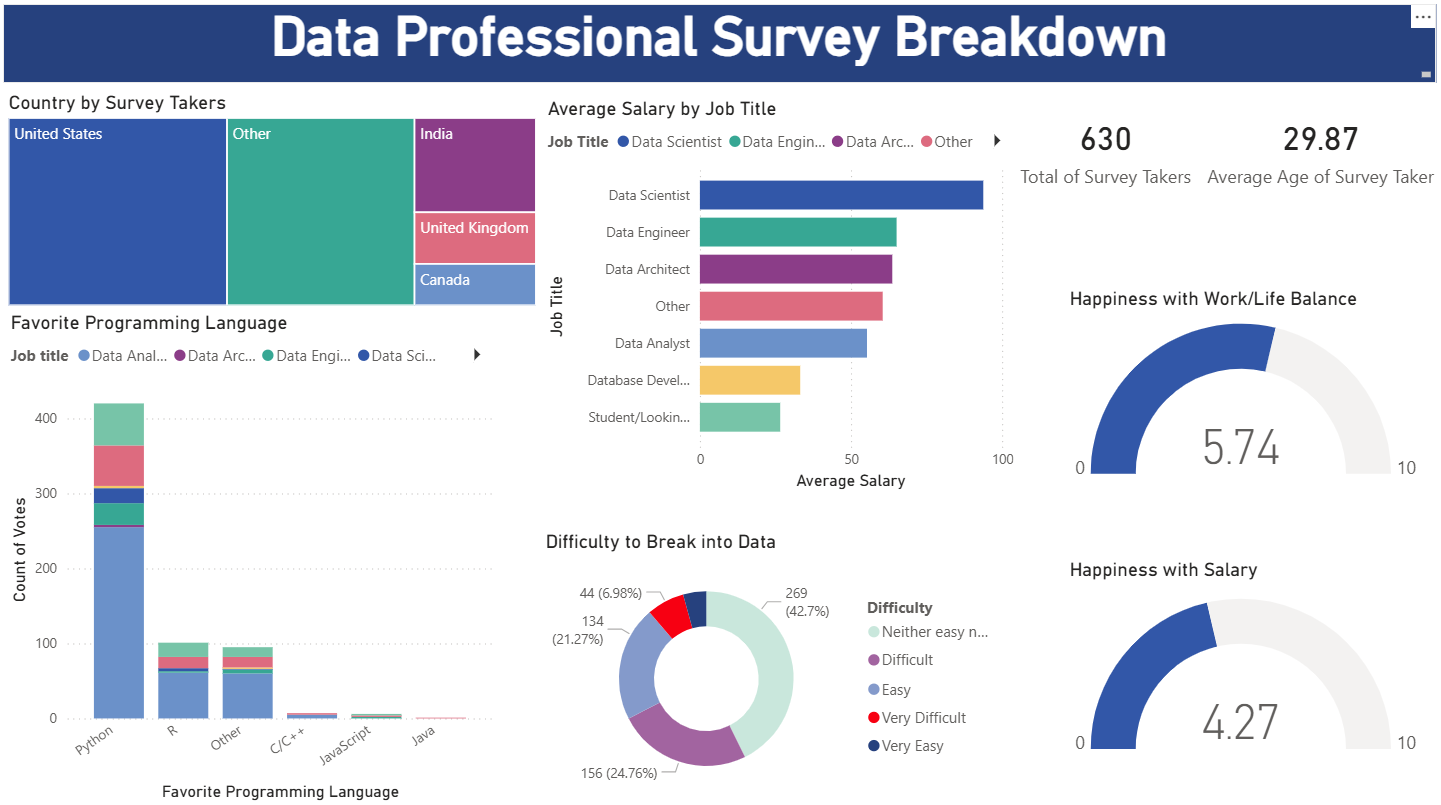

What the dashboard file says about the page in this screenshot:
{"tool":"powerbi","page":{"name":"Page 1","canvas":[1280,720],"ordinal":0},"visuals":[{"type":"textbox","title":"Data Professional Survey Breakdown","box":[4.4,8.9,1270.6,70],"z":0},{"type":"card","fields":{"Values":["CountNonNull(Data Professional Survey.Unique ID)"]},"box":[898.2,79.4,167.9,114.6],"z":1},{"type":"card","fields":{"Values":["Avg(Data Professional Survey.Q10 - Current Age)"]},"box":[1066.1,79.4,213.9,114.6],"z":2},{"type":"barChart","title":"Average Salary by Job Title","fields":{"Category":["Data Professional Survey.Q1 - Which Title Best Fits your Current Role?.1"],"Y":["Avg(Data Professional Survey.Average Salary)"],"Series":["Data Professional Survey.Q1 - Which Title Best Fits your Current Role?.1"]},"box":[482.4,91.3,423,352.9],"z":3},{"type":"columnChart","title":"Favorite Programming Language","fields":{"Category":["Data Professional Survey.Q5 - Favorite Programming Language.1"],"Y":["CountNonNull(Data Professional Survey.Unique ID)"],"Series":["Data Professional Survey.Q1 - Which Title Best Fits your Current Role?.1"]},"box":[6.3,280.7,437.8,439.6],"z":4},{"type":"treemap","title":"Country by Survey Takers","fields":{"Group":["Data Professional Survey.Q11 - Which Country do you live in?.1"],"Values":["CountNonNull(Data Professional Survey.Q11 - Which Country do you live in?.1)"]},"box":[4.5,85.8,477.5,195],"z":5},{"type":"gauge","title":"Happiness with Work/Life Balance","fields":{"Y":["Avg(Data Professional Survey.Q6 - How Happy are you in your Current Position with the following? (Work/Life Balance))"],"MaxValue":["Max(Data Professional Survey.Q6 - How Happy are you in your Current Position with the following? (Work/Life Balance))1"],"MinValue":["Min(Data Professional Survey.Q6 - How Happy are you in your Current Position with the following? (Work/Life Balance))"]},"box":[945.1,260,322.3,184.1],"z":6},{"type":"gauge","title":"Happiness with Salary","fields":{"Y":["Avg(Data Professional Survey.Q6 - How Happy are you in your Current Position with the following? (Salary))"],"MinValue":["Min(Data Professional Survey.Q6 - How Happy are you in your Current Position with the following? (Salary))"],"MaxValue":["Max(Data Professional Survey.Q6 - How Happy are you in your Current Position with the following? (Salary))"]},"box":[945.1,500.1,322.3,191.4],"z":7},{"type":"donutChart","title":"Difficulty to Break into Data","fields":{"Category":["Data Professional Survey.Q7 - How difficult was it for you to break into Data?"],"Y":["CountNonNull(Data Professional Survey.Q7 - How difficult was it for you to break into Data?)"]},"box":[480.2,475.7,417.9,244.6],"z":8}]}

Visuals, with their boxes in screenshot pixels (x1, y1, x2, y2), scaled from the page's 1280x720 canvas onto the 1441x805 screenshot:
"Data Professional Survey Breakdown" textbox: (5, 10, 1435, 88)
card - CountNonNull(Data Professional Survey.Unique ID): (1011, 89, 1200, 217)
card - Avg(Data Professional Survey.Q10 - Current Age): (1200, 89, 1440, 217)
"Average Salary by Job Title" barChart: (543, 102, 1019, 497)
"Favorite Programming Language" columnChart: (7, 314, 500, 804)
"Country by Survey Takers" treemap: (5, 96, 543, 314)
"Happiness with Work/Life Balance" gauge: (1064, 291, 1427, 497)
"Happiness with Salary" gauge: (1064, 559, 1427, 773)
"Difficulty to Break into Data" donutChart: (541, 532, 1011, 804)
